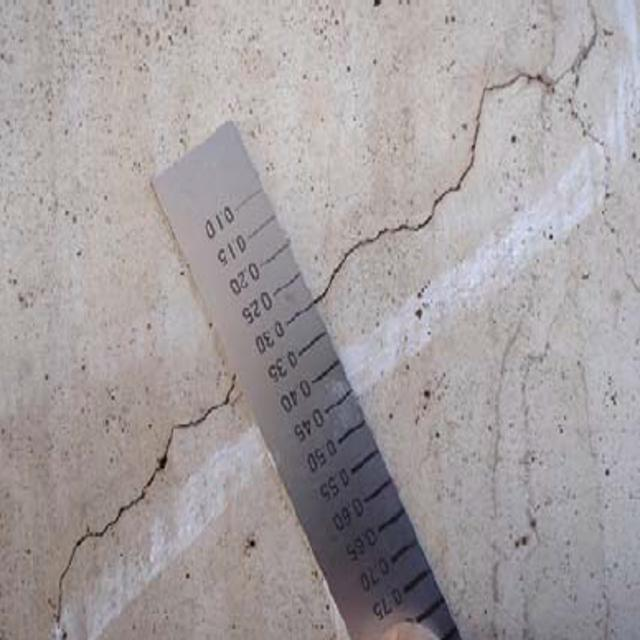crack: (284, 19, 630, 297), (20, 383, 256, 640)
